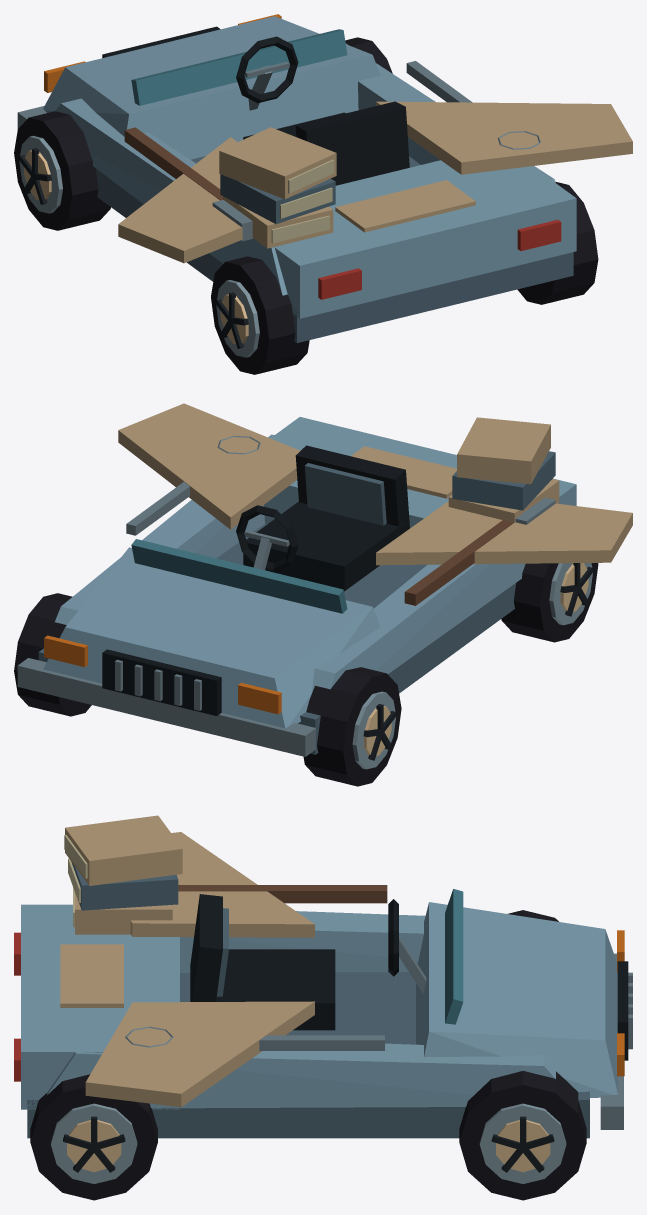
File: kart.glb
3 renders of one model, top to bottom at view 1: azimuth 30°, elevation 25°; view 2: azimuth 150°, elevation 25°; view 3: azimuth 270°, elevation 25°, orthographic. The views are drawn at different scales.
Parts seen in each view (by area): view 1: identity-sedan-sedan-road-car-body, identity-sedan-motif-wings, identity-sedan-motif-books, identity-sedan-driver-cockpit, wheel-front-left, wheel-rear-left, identity-sedan-motif-tools, wheel-rear-right, wheel-front-right; view 2: identity-sedan-sedan-road-car-body, identity-sedan-motif-wings, identity-sedan-driver-cockpit, identity-sedan-motif-books, wheel-front-left, wheel-rear-left, identity-sedan-motif-tools, wheel-front-right; view 3: identity-sedan-sedan-road-car-body, identity-sedan-motif-wings, wheel-front-right, identity-sedan-motif-books, identity-sedan-driver-cockpit, wheel-rear-right, identity-sedan-motif-tools.
Part boxes in pixels (x1,y1,x2,y2): identity-sedan-sedan-road-car-body: (17,14,576,342); identity-sedan-motif-wings: (118,101,632,263); identity-sedan-motif-books: (219,127,336,248); identity-sedan-driver-cockpit: (236,36,409,185); wheel-front-left: (14,111,110,230); wheel-rear-left: (211,256,309,374); identity-sedan-motif-tools: (124,61,540,241); wheel-rear-right: (517,181,598,304); wheel-front-right: (345,37,392,73); identity-sedan-sedan-road-car-body: (17,417,576,756); identity-sedan-motif-wings: (118,403,632,565); identity-sedan-driver-cockpit: (236,445,409,591); identity-sedan-motif-books: (448,417,559,522); wheel-front-left: (303,667,401,786); wheel-rear-left: (501,563,598,642); identity-sedan-motif-tools: (126,435,555,605); wheel-front-right: (14,593,91,716); identity-sedan-sedan-road-car-body: (14,889,632,1138); identity-sedan-motif-wings: (85,832,314,1107); wheel-front-right: (459,1071,586,1200); identity-sedan-motif-books: (64,815,182,934); identity-sedan-driver-cockpit: (190,894,426,1030); wheel-rear-right: (30,1074,157,1200); identity-sedan-motif-tools: (125,885,387,1050).
Size of the model in its own units: 2.92 by 1.12 by 2.92.
